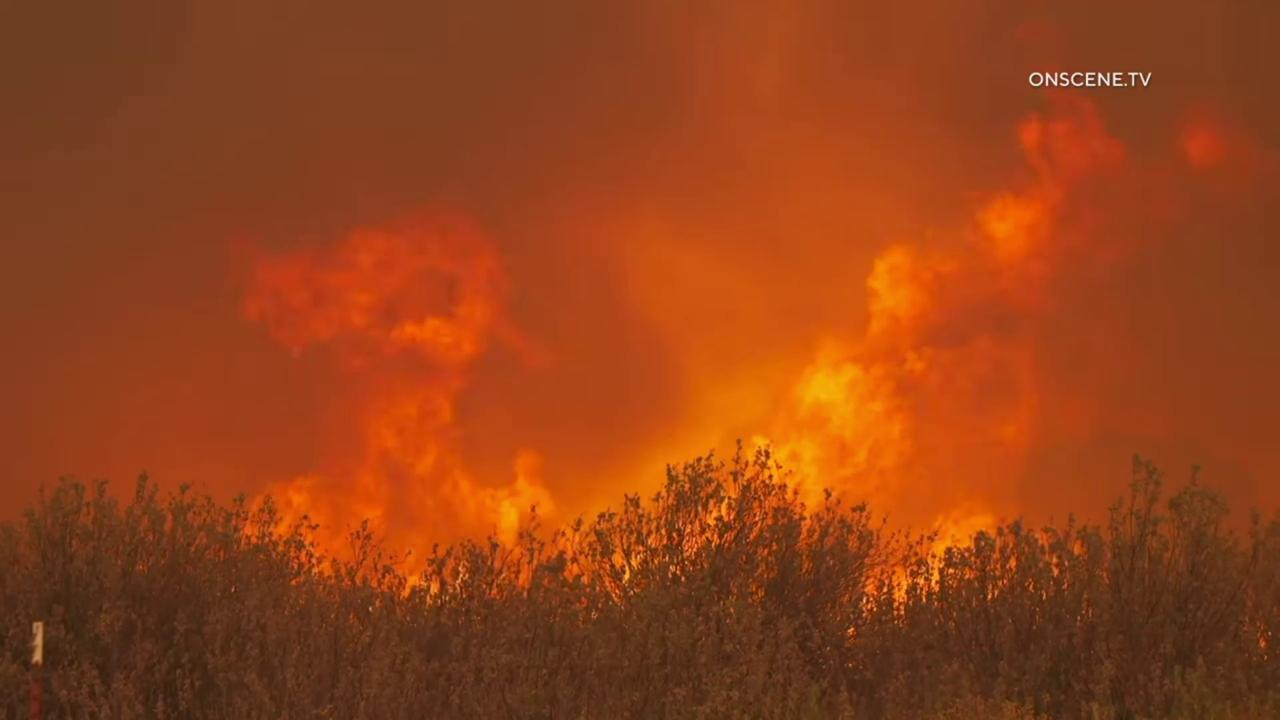fire: (575, 85, 1280, 624), (201, 196, 562, 599)
smoke: (0, 0, 1280, 651)
